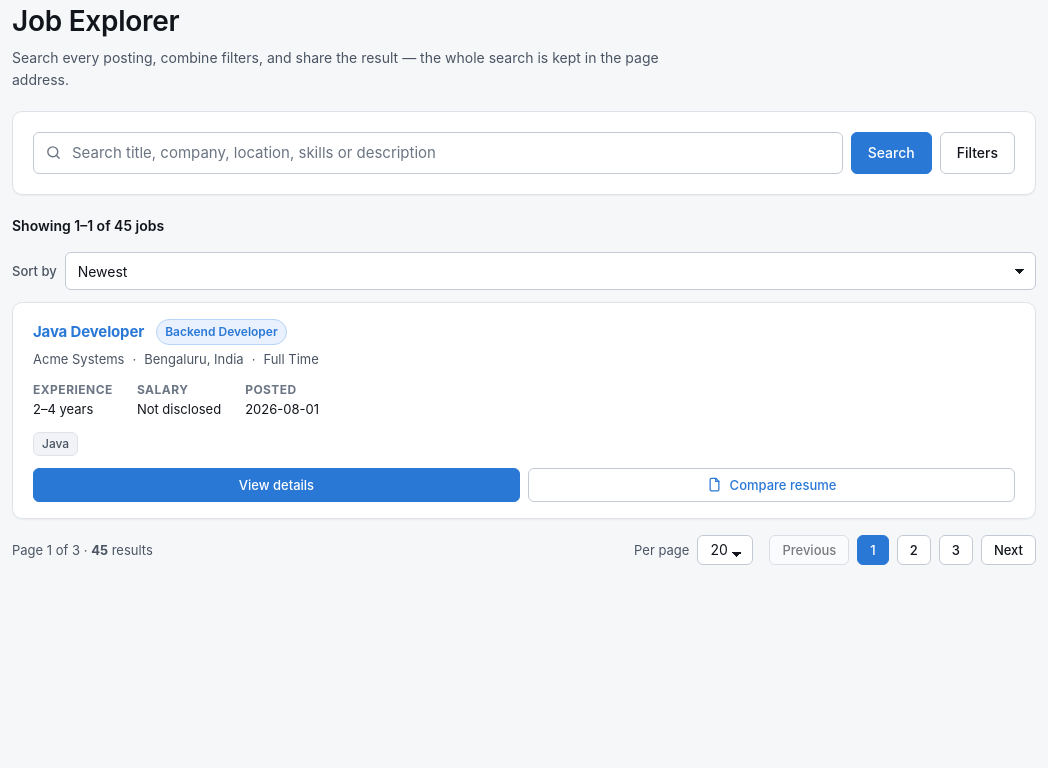
Test: JobExplorer › pages through results via the URL
This screenshot has width=1048, height=768.
Expected: the link "Java Developer" is shown, [33,322,144,341]
Click the button "Next" at (1008, 550), box [981,535,1036,565]
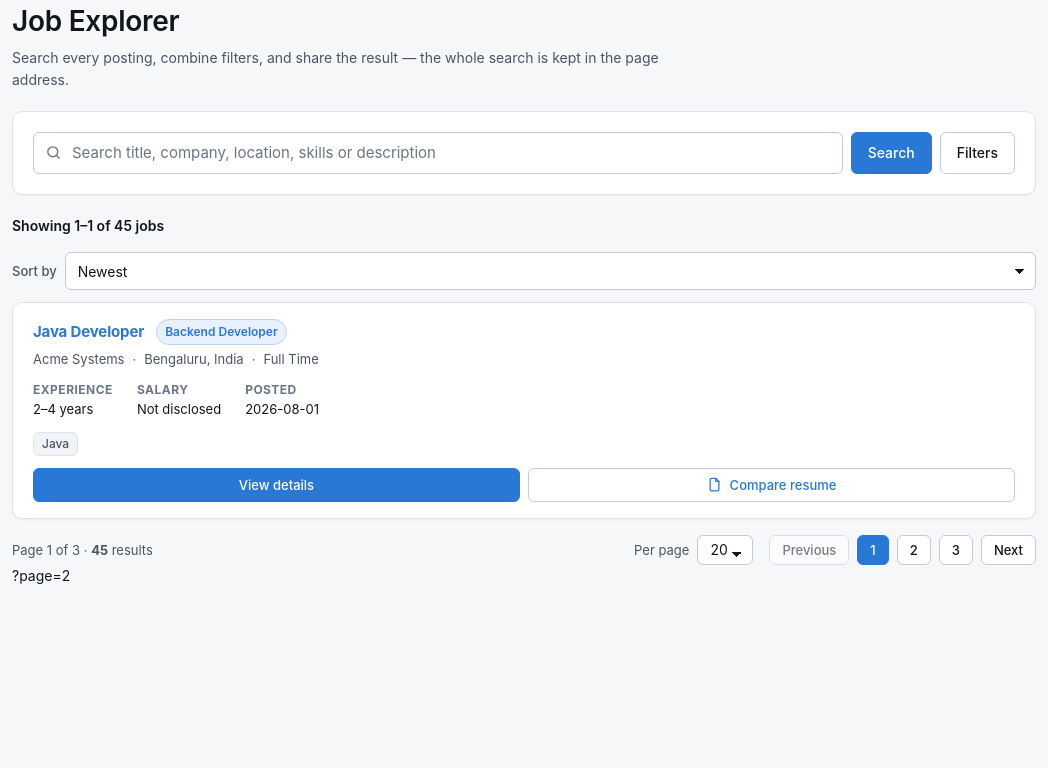
Expected: the text with test id "search" reads "?page=2", [12,567,70,584]
